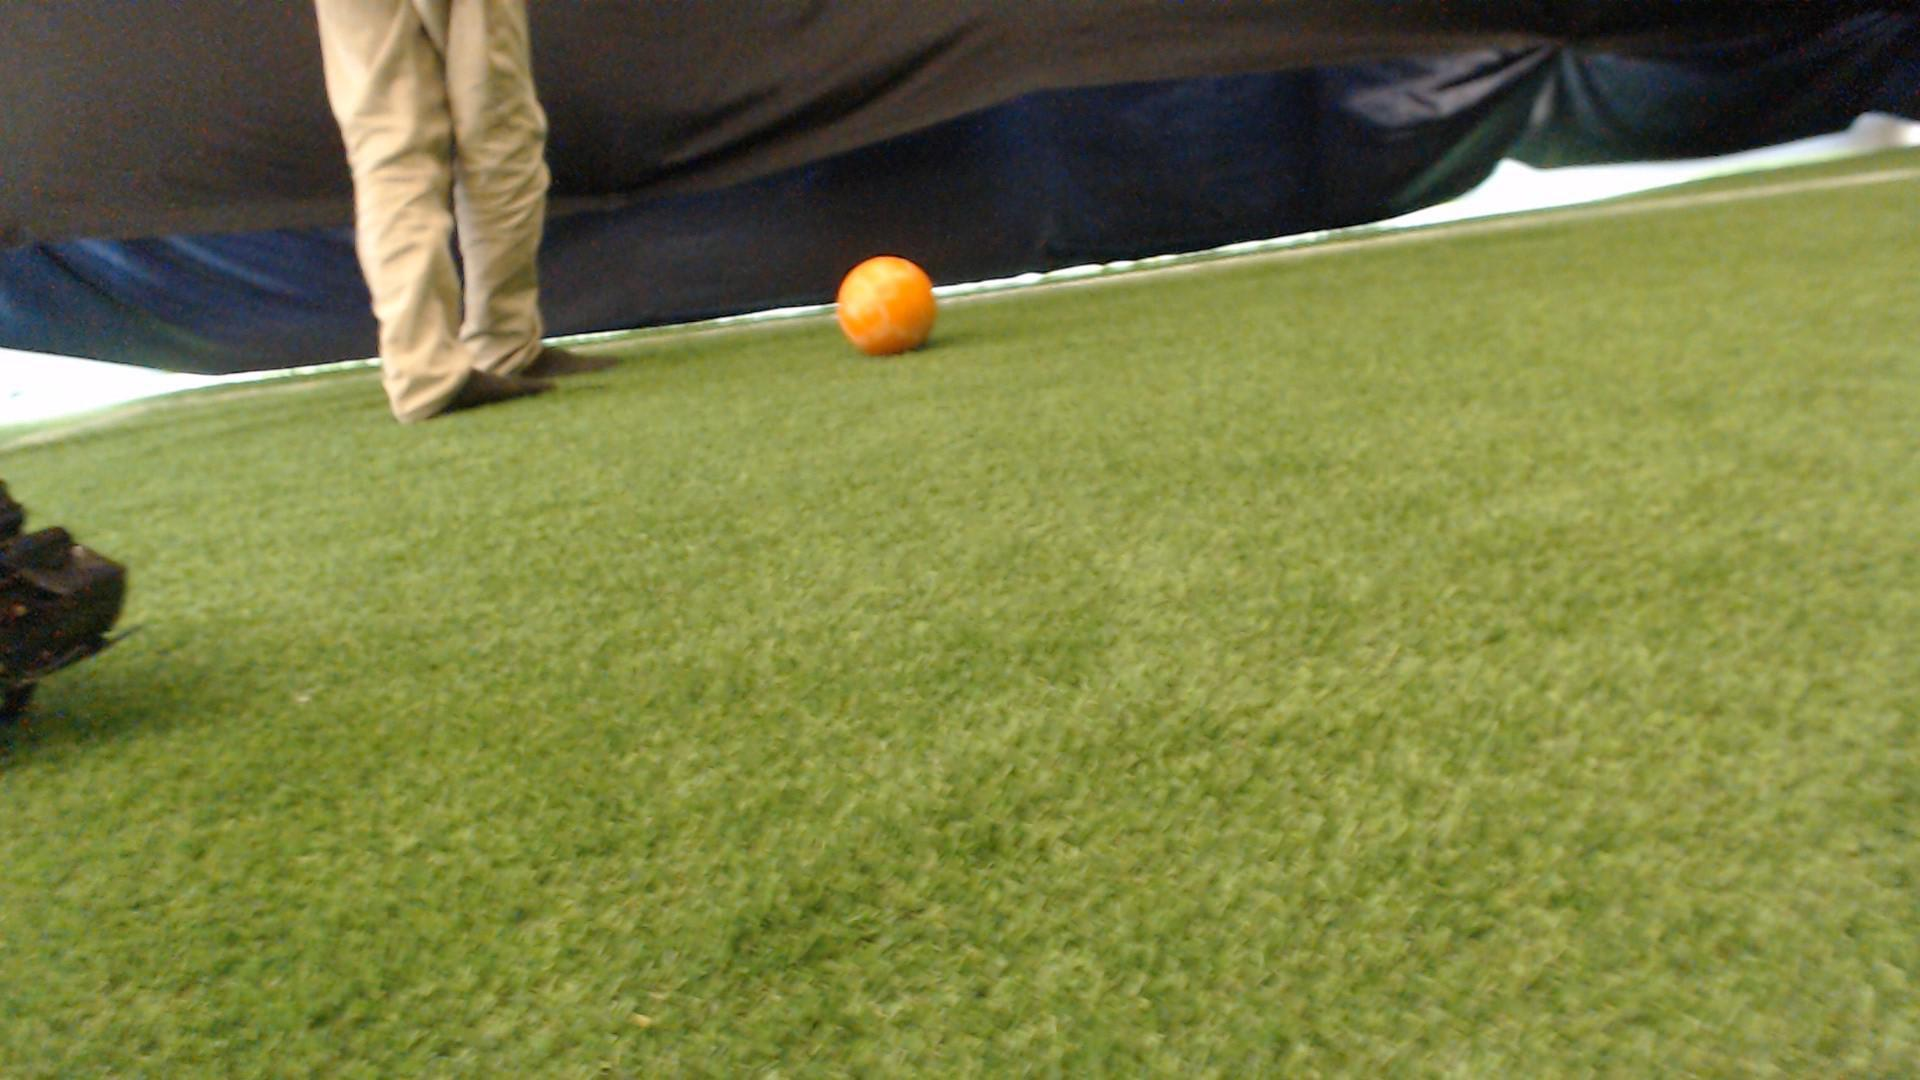bola: (828, 239, 960, 380)
